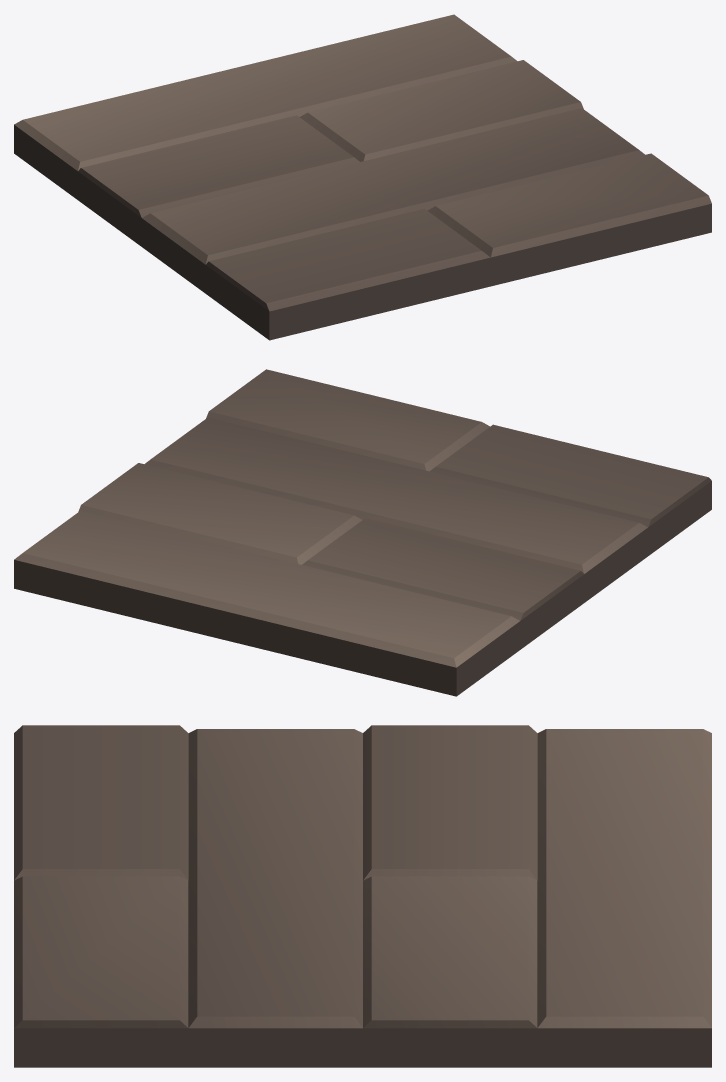
The model's file is floor_wood_small_dark.gltf.
The picture shows the model from 3 angles, top to bottom: view 1: azimuth 30°, elevation 25°; view 2: azimuth 150°, elevation 25°; view 3: azimuth 270°, elevation 25°; orthographic projection. The views are drawn at different scales.
Parts seen in each view (by area): view 1: floor_wood_small_dark; view 2: floor_wood_small_dark; view 3: floor_wood_small_dark.
Boxes of the visible parts, <box> form: floor_wood_small_dark: <box>14,14,711,340</box>; floor_wood_small_dark: <box>14,369,711,696</box>; floor_wood_small_dark: <box>14,725,711,1067</box>.
Bounding box in the file's own units: 2 × 0.15 × 2.
Materials: 1 (1 with a texture image).
